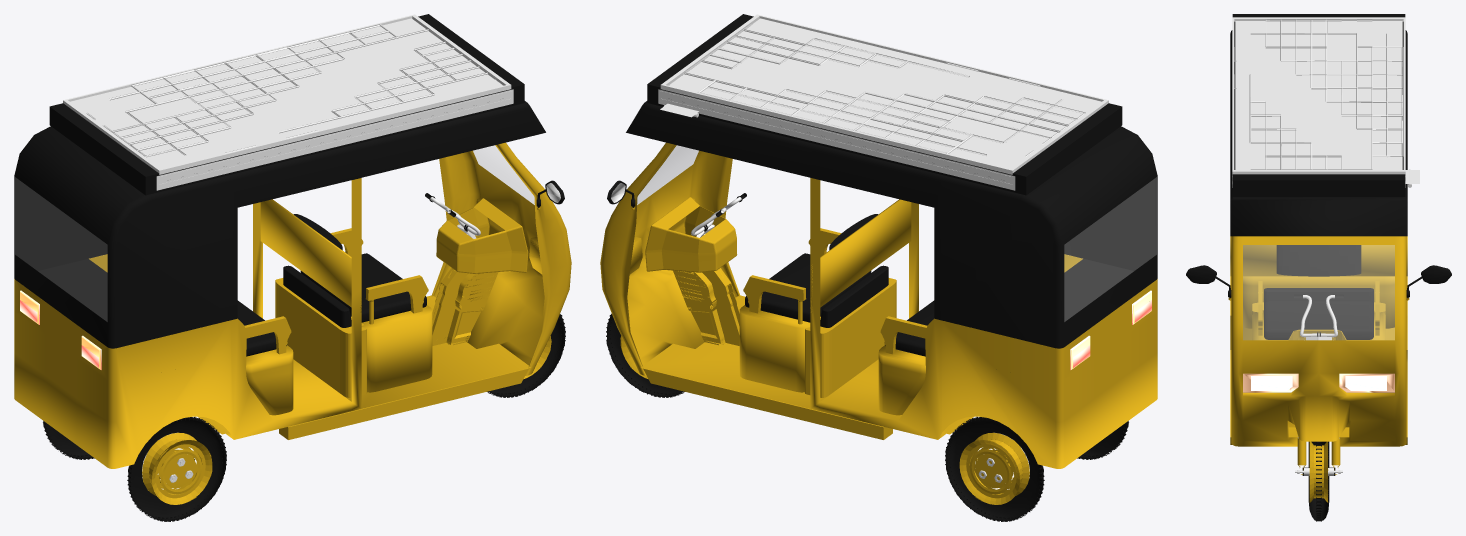
File: keke.glb
The picture shows the model from 3 angles, left to right: view 1: azimuth 30°, elevation 25°; view 2: azimuth 150°, elevation 25°; view 3: azimuth 270°, elevation 25°; orthographic projection. The views are drawn at different scales.
Parts seen in each view (by area): view 1: Object_50, Object_70, Object_127, Object_26, Object_54; view 2: Object_50, Object_70, Object_127, Object_26, Object_54; view 3: Object_50, Object_127, Object_70, Object_26, Object_86, Object_99, Object_87, Object_54.
Part boxes in pixels (bbox=[...]): Object_50: bbox=[14, 142, 571, 504]; Object_70: bbox=[14, 14, 565, 521]; Object_127: bbox=[63, 14, 511, 238]; Object_26: bbox=[15, 145, 534, 321]; Object_54: bbox=[146, 89, 513, 480]; Object_50: bbox=[600, 142, 1157, 504]; Object_70: bbox=[606, 14, 1157, 521]; Object_127: bbox=[660, 14, 1108, 237]; Object_26: bbox=[637, 145, 1156, 321]; Object_54: bbox=[658, 89, 1025, 455]; Object_50: bbox=[1228, 236, 1409, 502]; Object_127: bbox=[1232, 17, 1405, 472]; Object_70: bbox=[1230, 14, 1407, 521]; Object_26: bbox=[1243, 245, 1394, 339]; Object_86: bbox=[1251, 376, 1386, 390]; Object_99: bbox=[1186, 265, 1451, 299]; Object_87: bbox=[1243, 373, 1394, 392]; Object_54: bbox=[1304, 169, 1419, 475].
Bounding box in the file's own units: 3.08 × 2.09 × 1.56.
